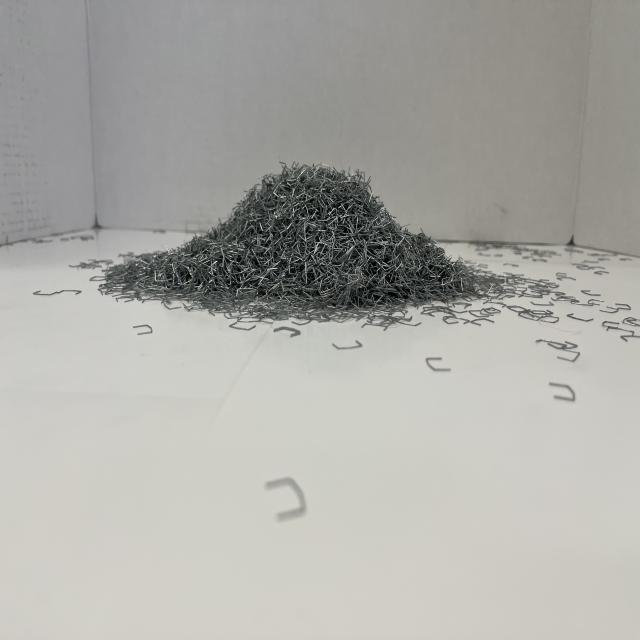staples: (94, 158, 479, 315)
